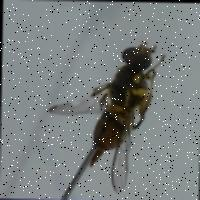Oriental-fruit-fly: (38, 21, 170, 192)
